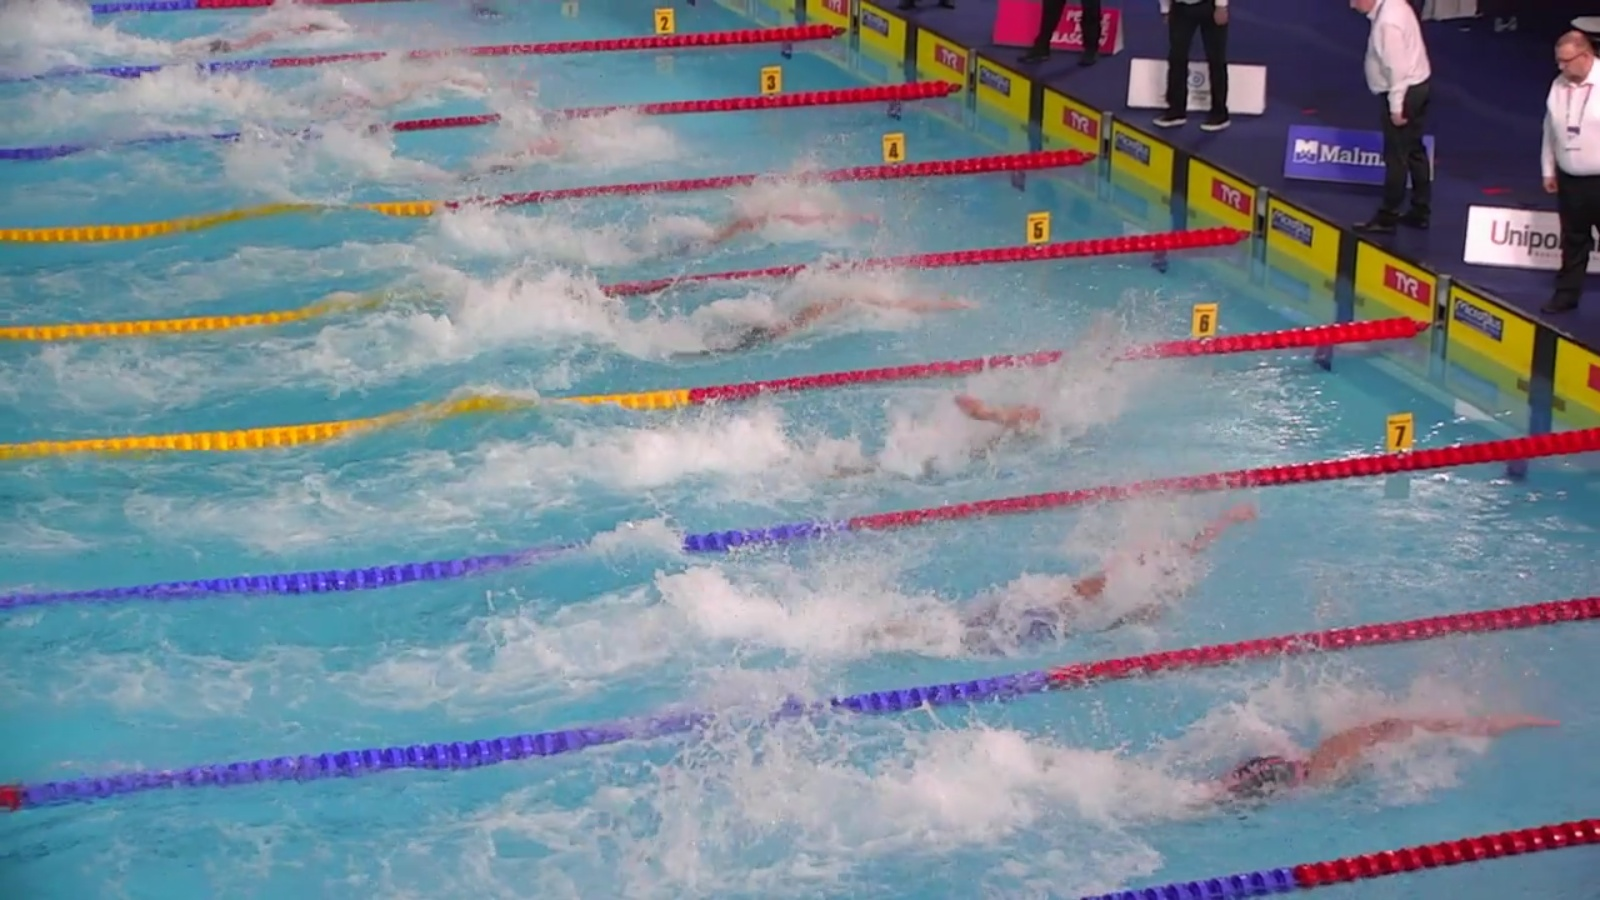swimmerw: (838, 500, 1266, 675), (1081, 709, 1567, 835), (802, 393, 1091, 492), (651, 296, 986, 367), (267, 68, 503, 132), (655, 205, 879, 268), (433, 133, 669, 187), (111, 20, 379, 64)
